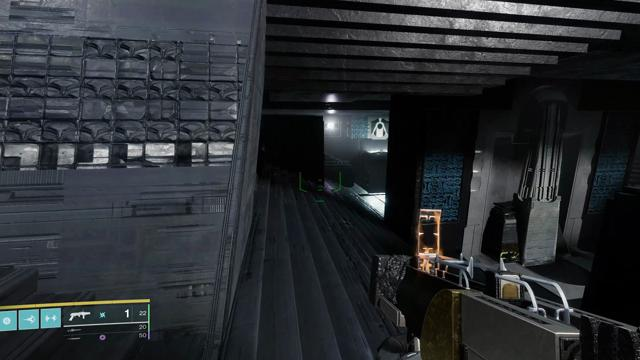grief: (371, 117, 389, 137)
